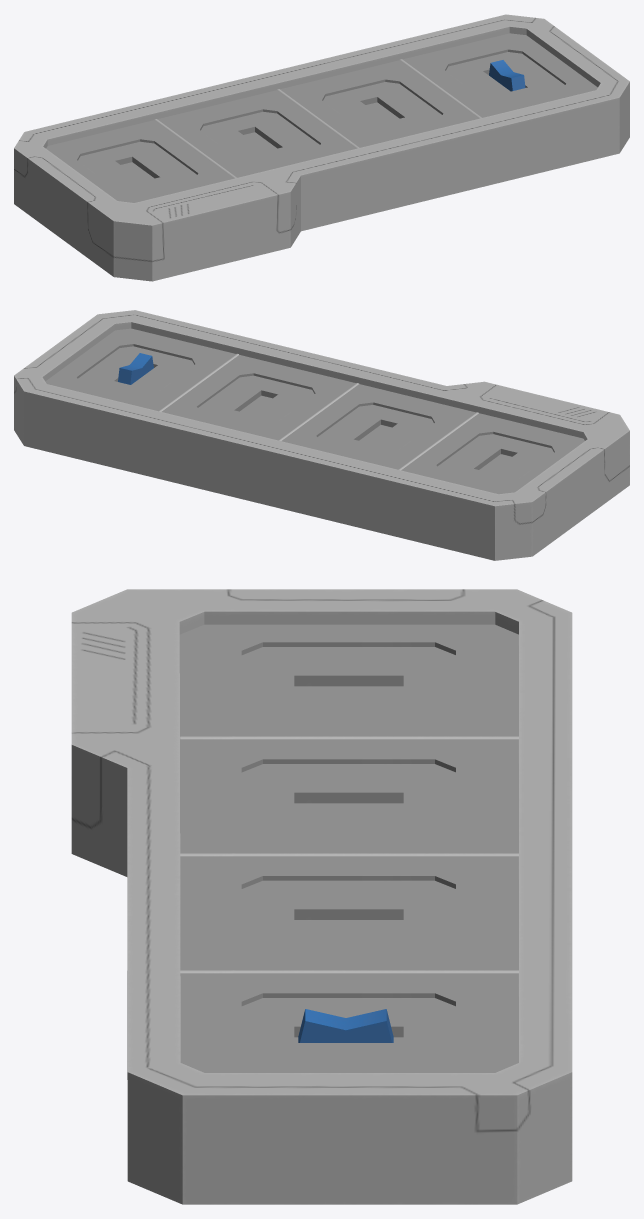
The model's file is InteractionDioramaControls.FBX.
3 renders of one model, top to bottom at view 1: azimuth 30°, elevation 25°; view 2: azimuth 150°, elevation 25°; view 3: azimuth 270°, elevation 25°, orthographic. The views are drawn at different scales.
Visible parts, largest first — view 1: Base, swtich; view 2: Base, swtich; view 3: Base, swtich.
Boxes of the visible parts, left/top/right/bottom form: Base: left=14, top=14, right=629, bottom=281; swtich: left=489, top=60, right=525, bottom=91; Base: left=14, top=310, right=629, bottom=560; swtich: left=118, top=353, right=153, bottom=384; Base: left=71, top=589, right=572, bottom=1204; swtich: left=298, top=1009, right=393, bottom=1042.
Bounding box in the file's own units: 183 × 76.59 × 19.
